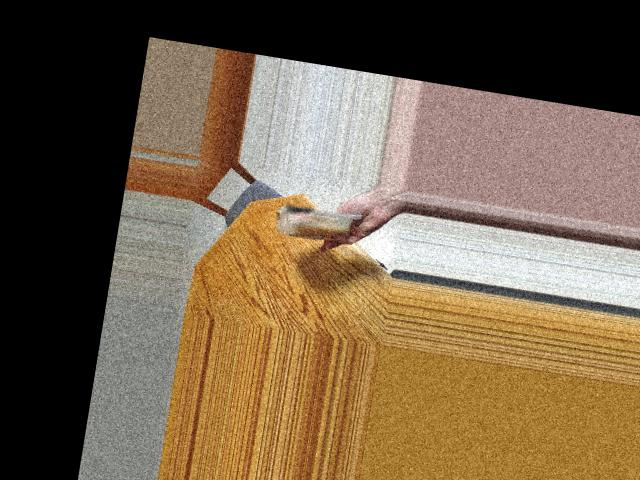cheese: (279, 187, 359, 248)
